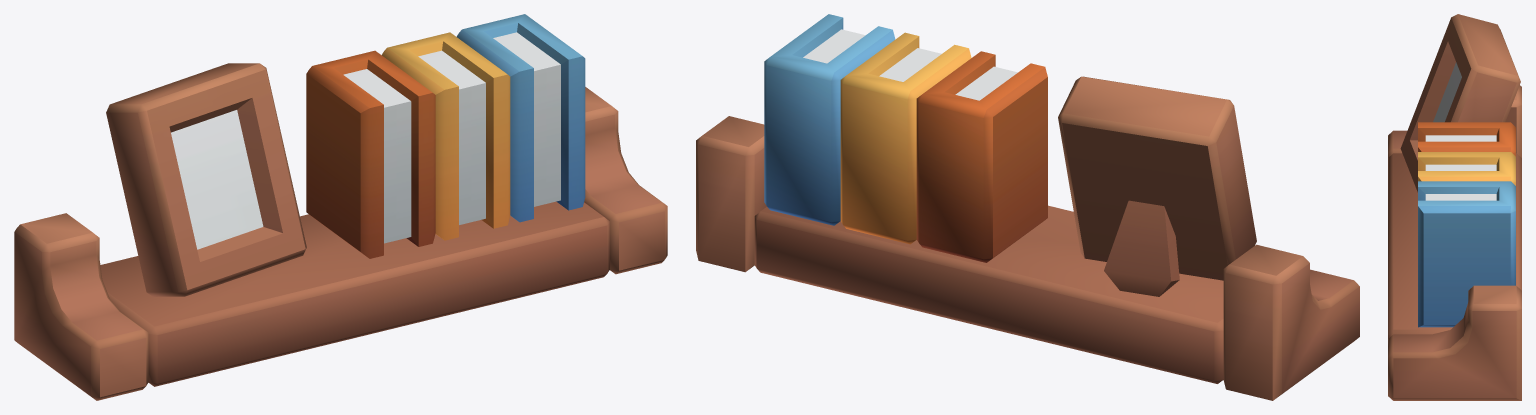
The model's file is kaykit-shelf-decorated.glb.
3 views of the same model, side by side, from view 1: azimuth 30°, elevation 25°; view 2: azimuth 150°, elevation 25°; view 3: azimuth 270°, elevation 25° (orthographic). The views are drawn at different scales.
Parts seen in each view (by area): view 1: shelf_B_large_decorated; view 2: shelf_B_large_decorated; view 3: shelf_B_large_decorated.
Boxes of the visible parts, box(x1,y1,x2,y2) form: shelf_B_large_decorated: box(14, 14, 667, 400); shelf_B_large_decorated: box(696, 14, 1359, 400); shelf_B_large_decorated: box(1388, 14, 1521, 400).
Bounding box in the file's own units: 2 × 0.8175 × 0.5001.
1 material, 1 textured.
